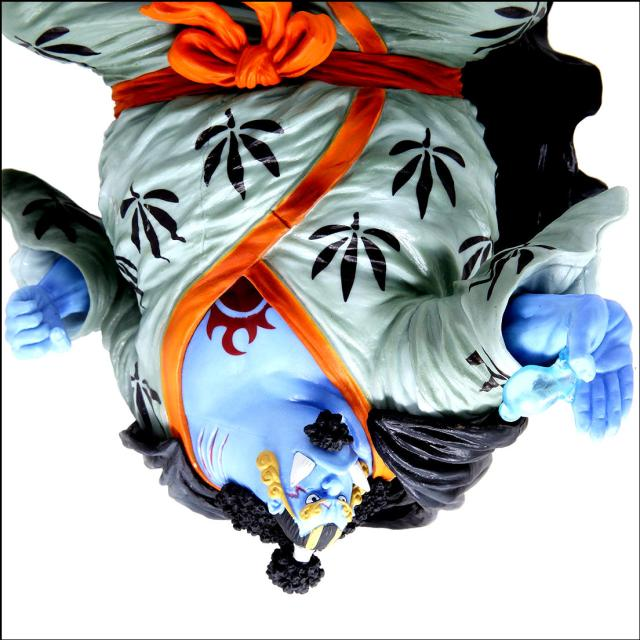Jinbe: (0, 0, 632, 596)
